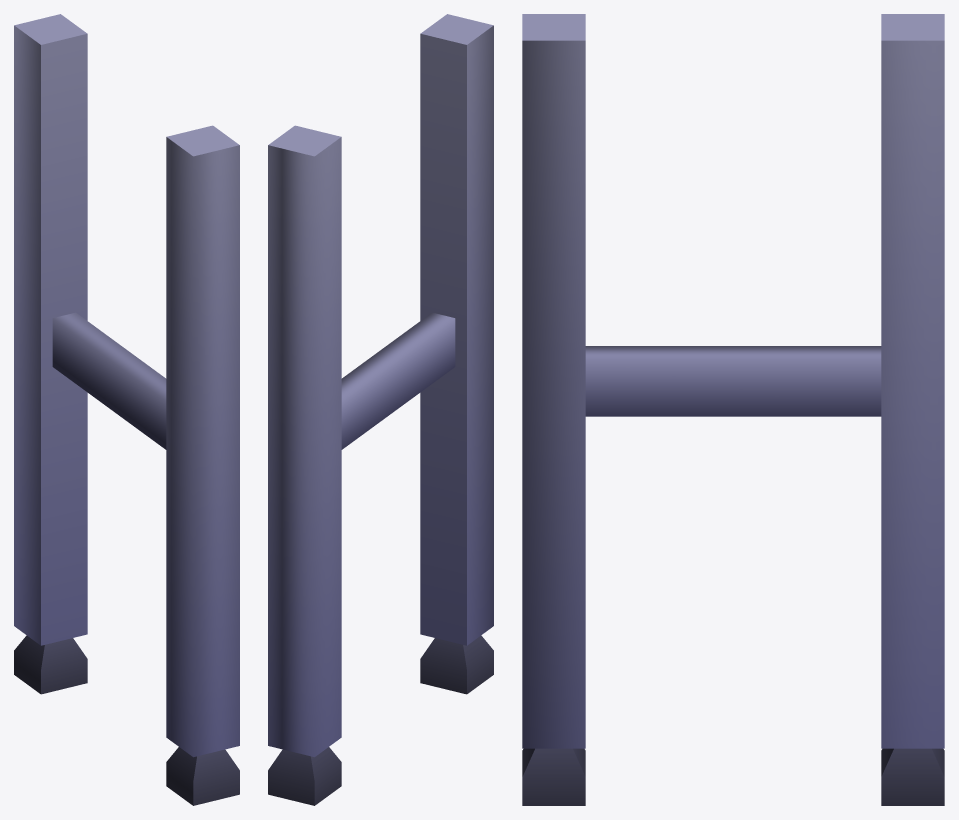
File: structure-tall.glb
3 renders of one model, left to right at view 1: azimuth 30°, elevation 25°; view 2: azimuth 150°, elevation 25°; view 3: azimuth 270°, elevation 25°, orthographic. The views are drawn at different scales.
Visible parts, largest first — view 1: structure-tall; view 2: structure-tall; view 3: structure-tall.
Boxes of the visible parts, x1,y1,x2,y2 form: structure-tall: (14, 14, 239, 805); structure-tall: (268, 14, 493, 805); structure-tall: (522, 14, 944, 805).
Size of the model in its own units: 0.15 by 2 by 1.
